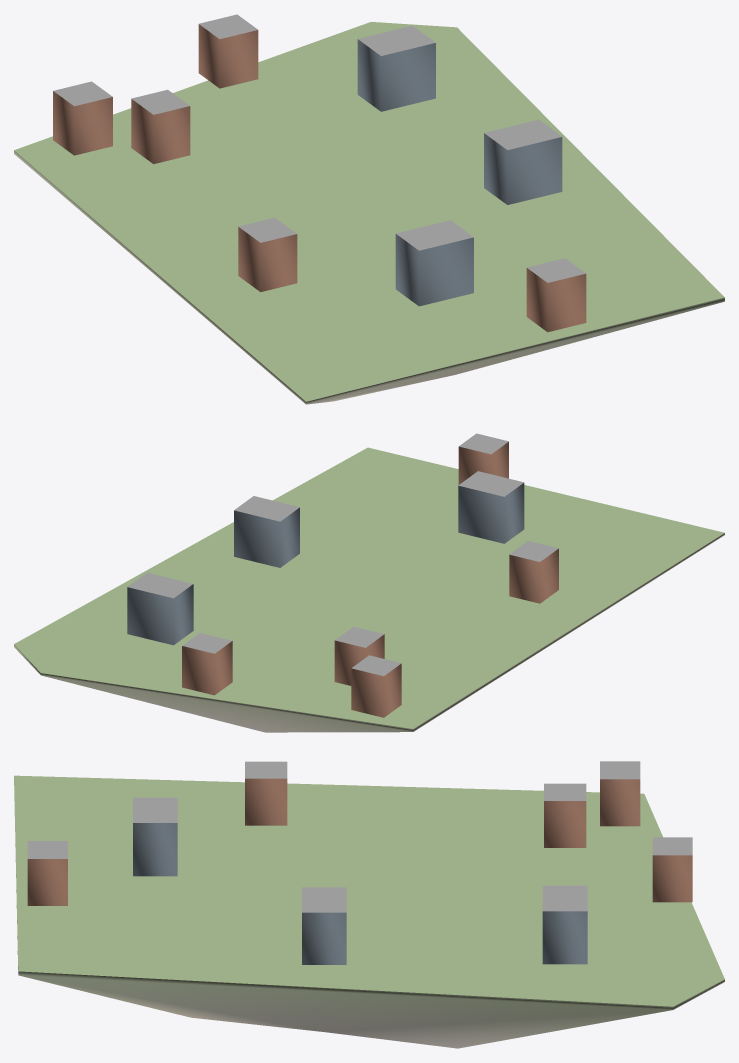
File: SKY-062.lod2.glb
The picture shows the model from 3 angles, top to bottom: view 1: azimuth 30°, elevation 25°; view 2: azimuth 150°, elevation 25°; view 3: azimuth 270°, elevation 25°; orthographic projection. The views are drawn at different scales.
Visible parts, largest first — view 1: deck, buildings, rock; view 2: deck, buildings, rock; view 3: deck, buildings, rock.
Boxes of the visible parts, x1,y1,x2,y2 form: deck: (14, 22, 724, 401); buildings: (53, 14, 586, 332); rock: (14, 150, 724, 404); deck: (14, 447, 724, 728); buildings: (127, 433, 558, 717); rock: (14, 533, 724, 732); deck: (14, 775, 724, 1006); buildings: (27, 761, 692, 964); rock: (14, 783, 724, 1048).
Size of the model in its own units: 244 by 86.52 by 317.
